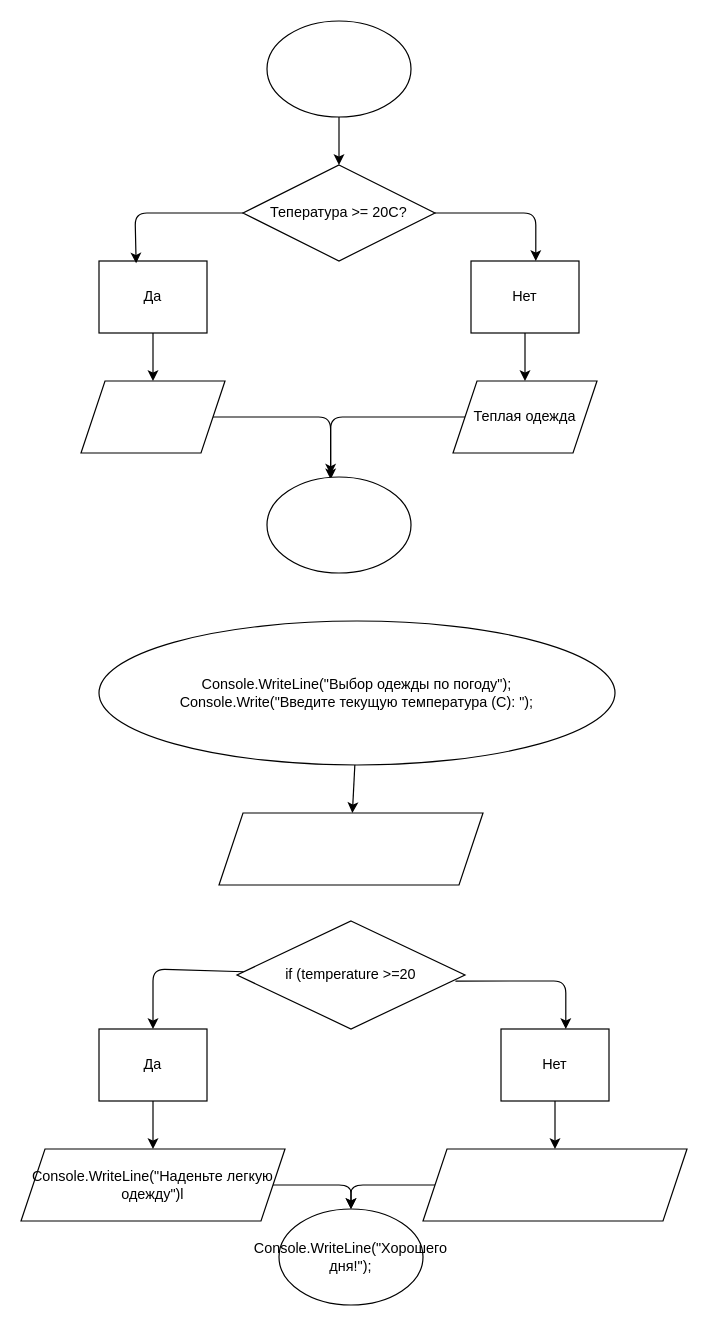
The diagram is 708 pixels wide and 1326 high, and some of its shapes have lost their labels. Here are the shapes that lost their labels. From the top down, the centre of each, then its label:
pixel 338 68: Начало
pixel 152 416: Легкая одежда
pixel 338 524: Конец
pixel 350 848: int temperature = Convert.ToInt32 (Console.ReadLine());
pixel 554 1184: Console.WriteLine("Наденьте теплую одежду")l
